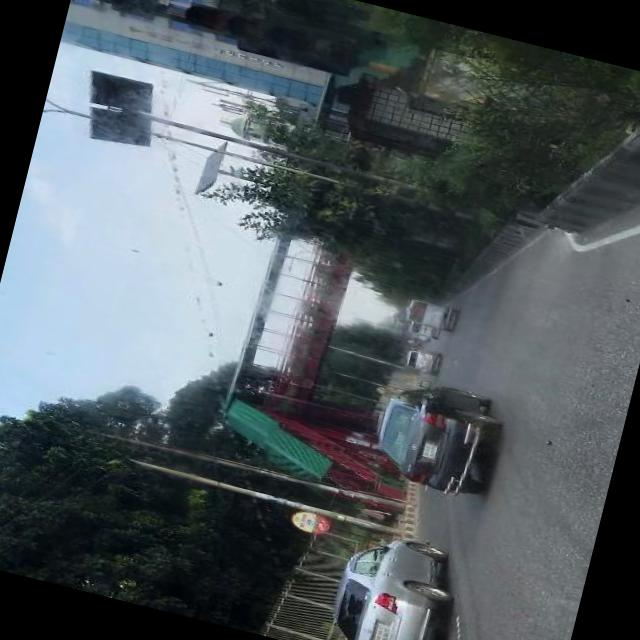car: (366, 371, 510, 504), (318, 519, 468, 640), (401, 344, 444, 377)
truck: (402, 296, 459, 332), (404, 319, 439, 340)
